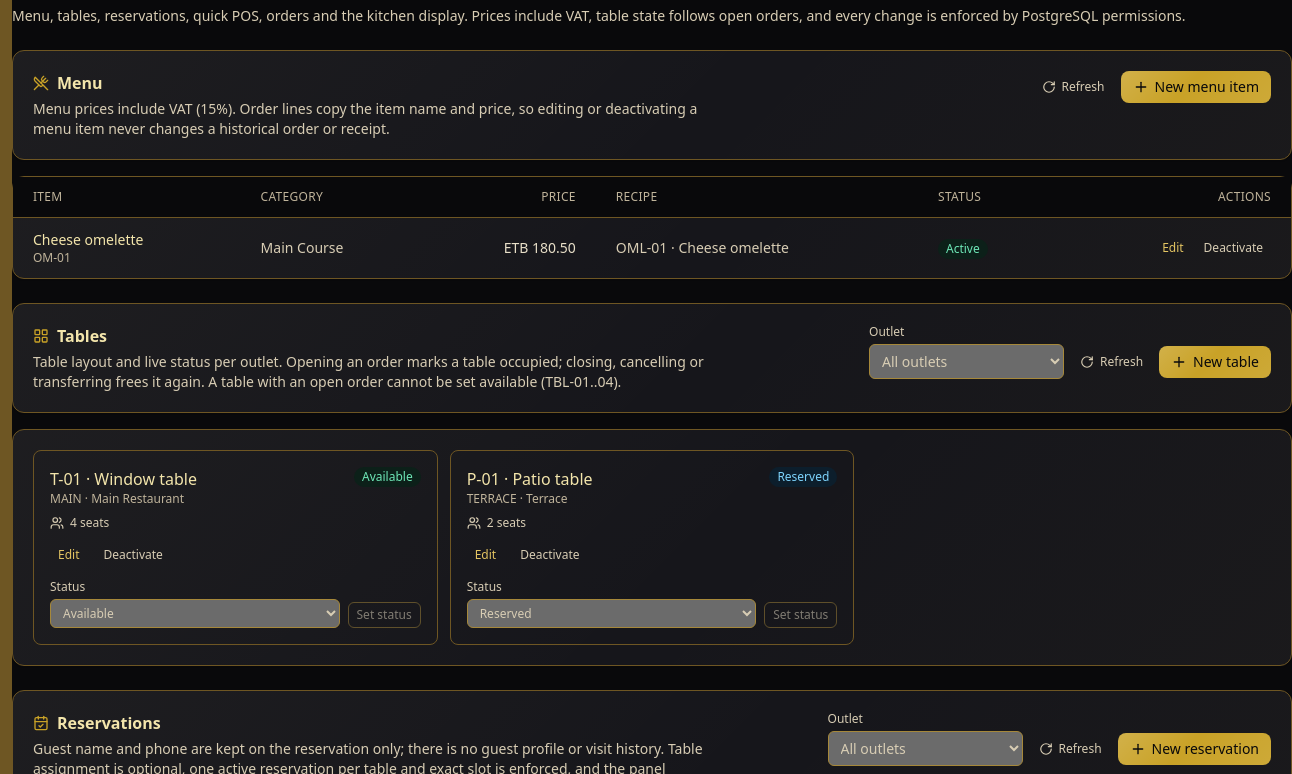
Scenario: Operations - menus, tables, reservations, orders and kitchen › records a reservation with an optional table and guest contact
Click the button "New reservation". click: (1194, 748)
box: [1118,732,1271,764]
(page scrolled)
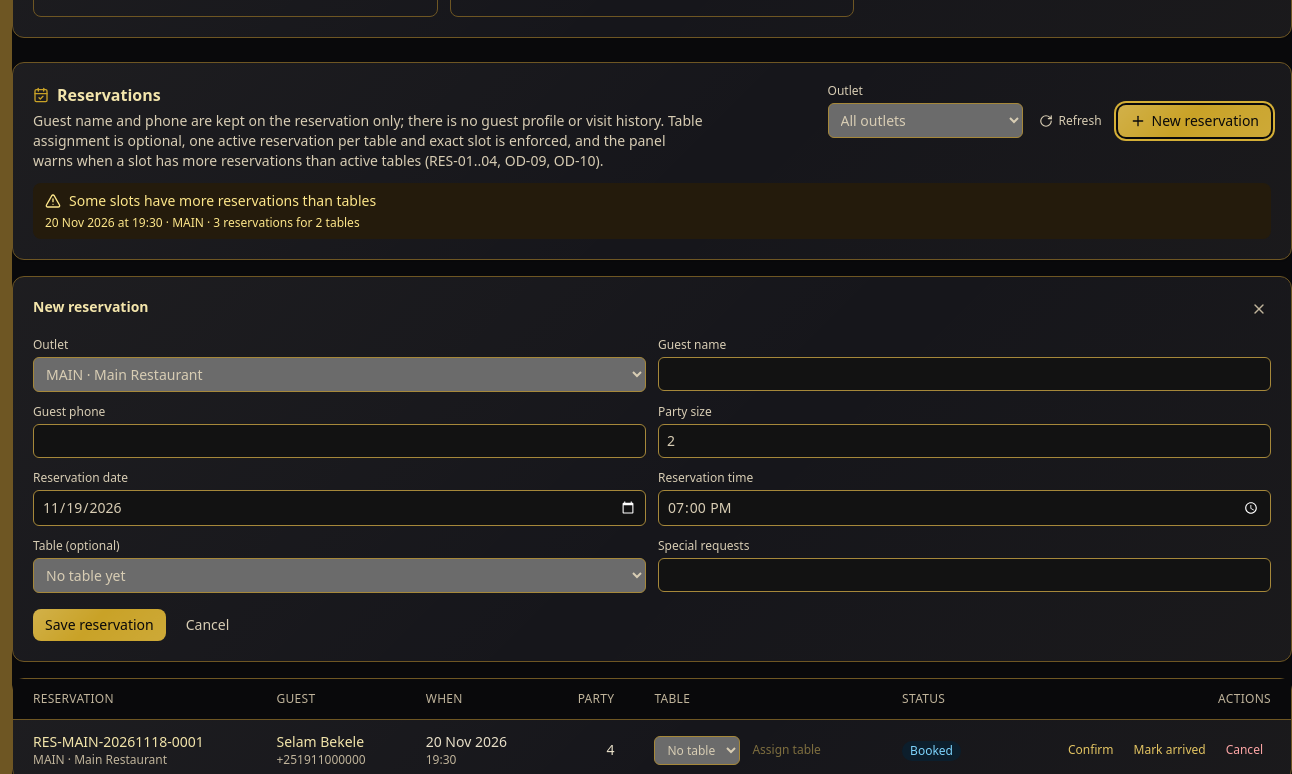
Type "Abebe Tadesse" into the field labelled "Guest name". click: (964, 374)
box: [658,357,1271,391]
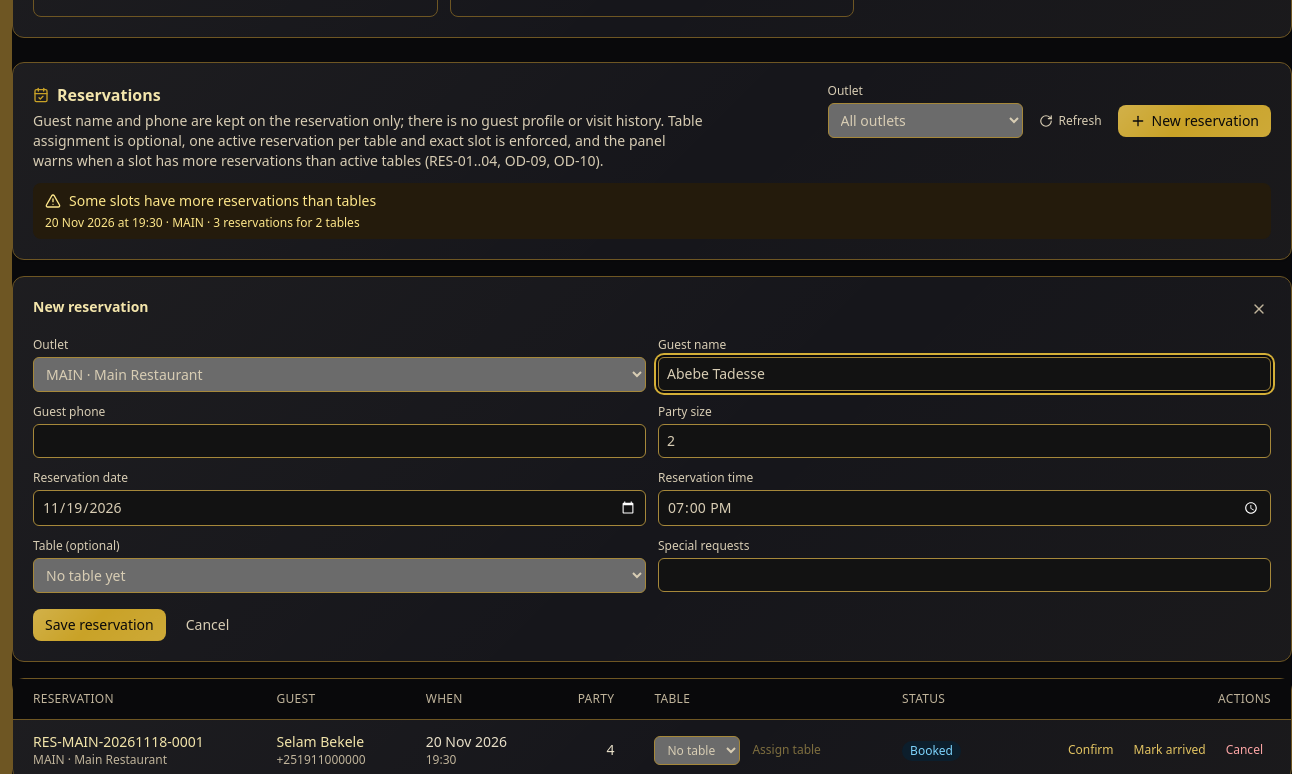
Type "+251922000000" into the field labelled "Guest phone". click: (340, 441)
box: [33,424,646,458]
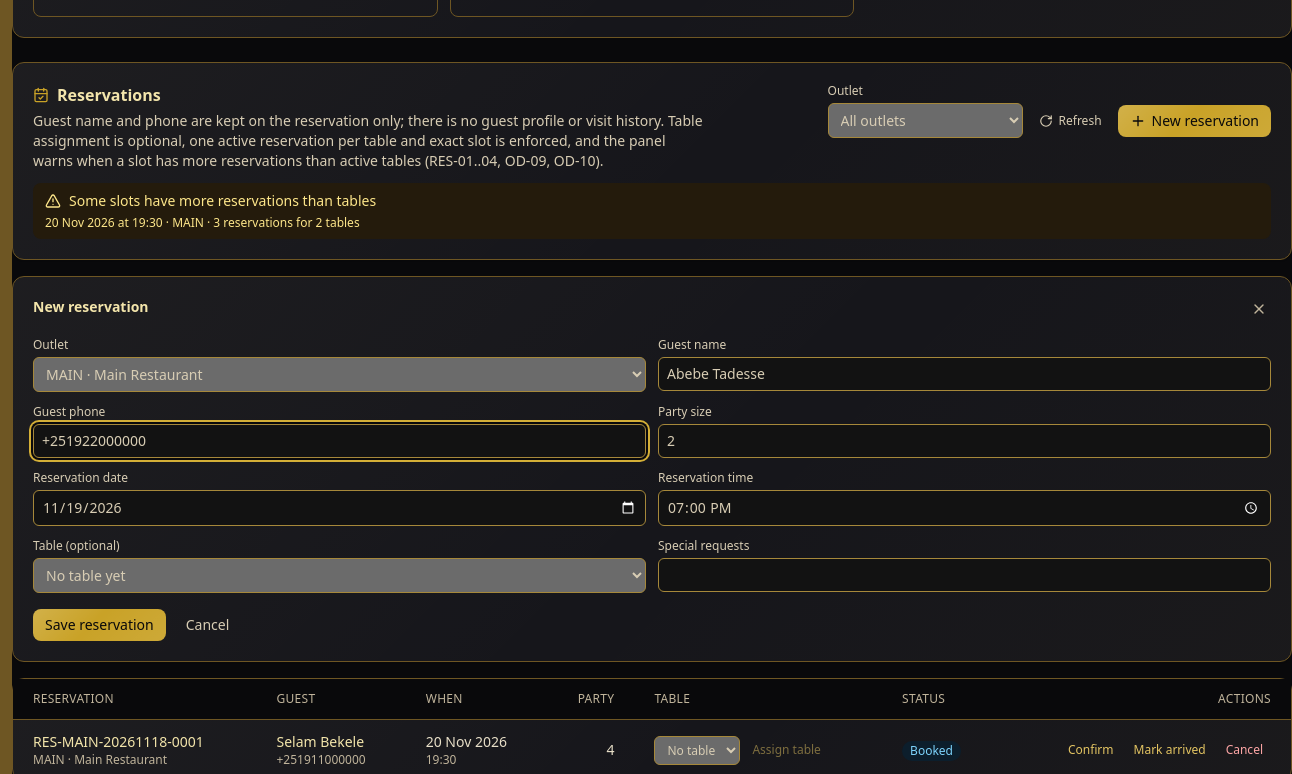
Replace the text in the field labelled "Party size" with "6". click: (964, 441)
box: [658,424,1271,458]
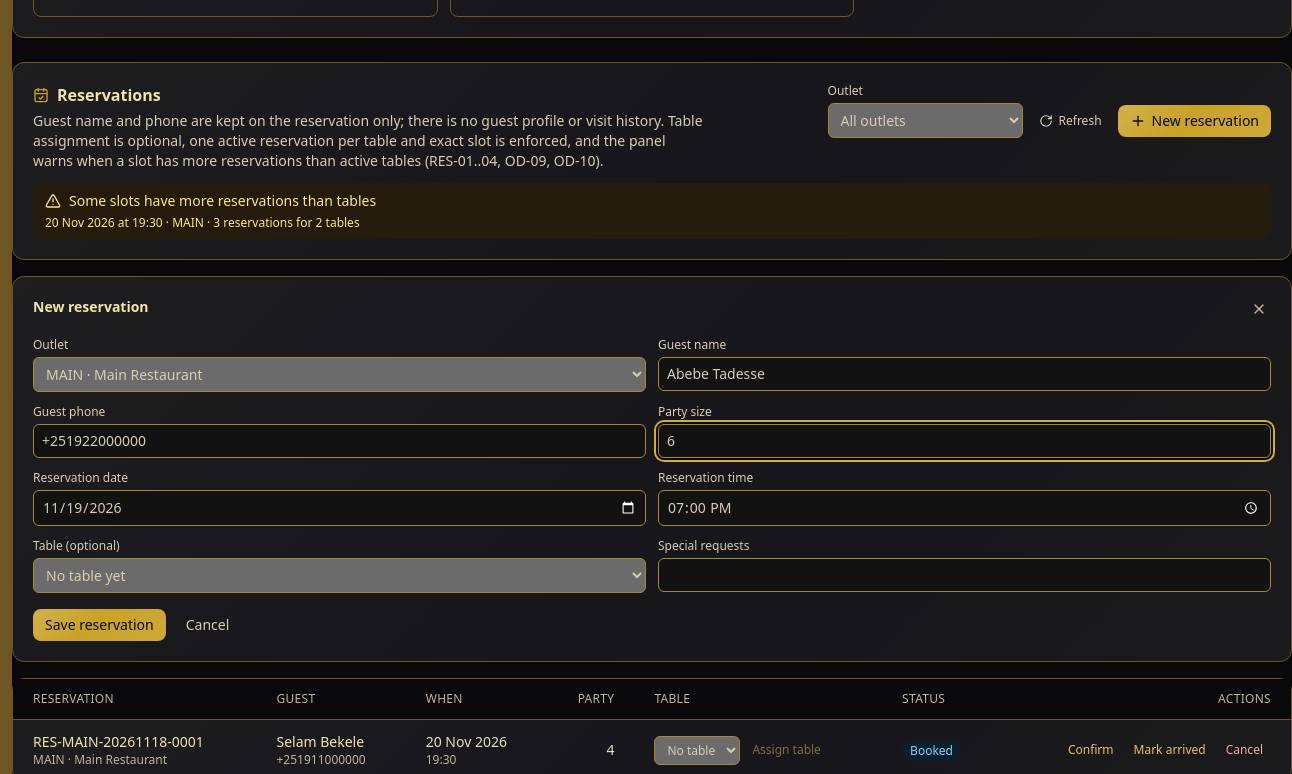
Click the button "Save reservation". click: (99, 625)
box: [33,609,166,641]
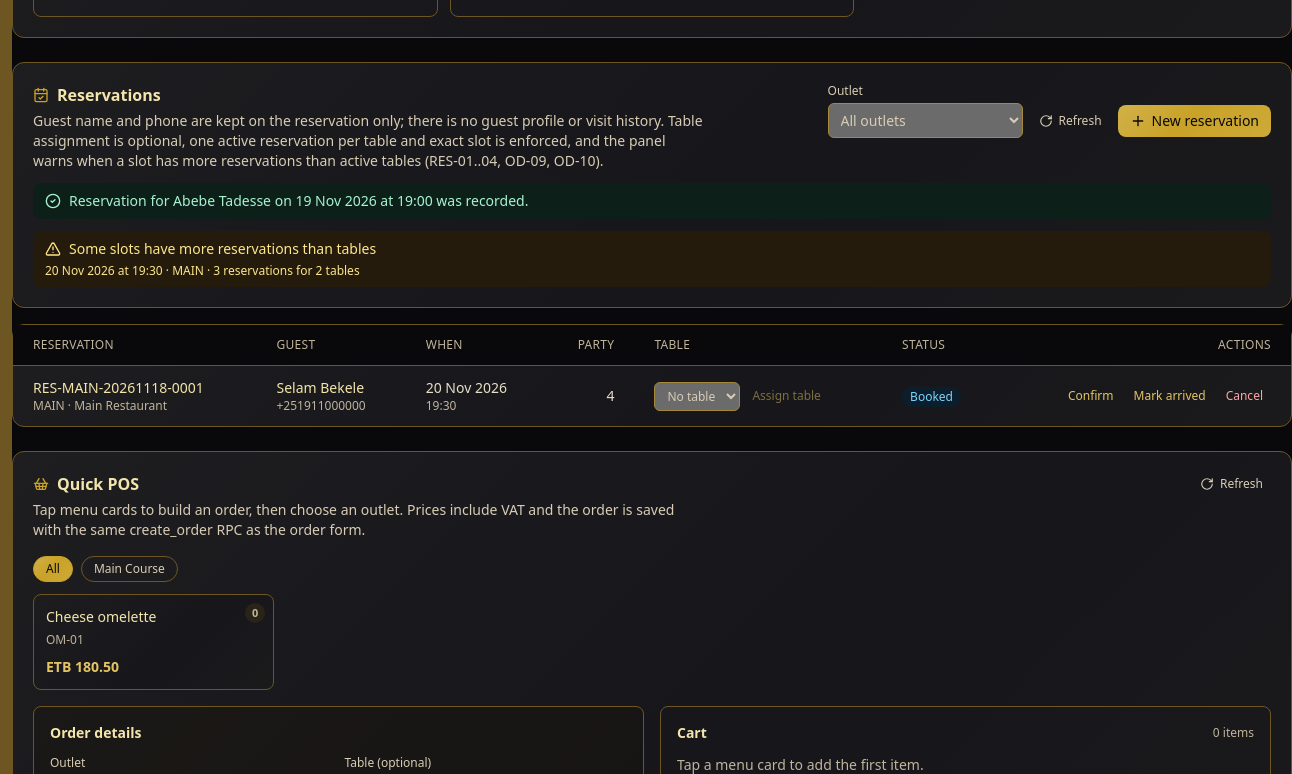
Check: the text "was recorded" is shown, box [69,191,528,210]
